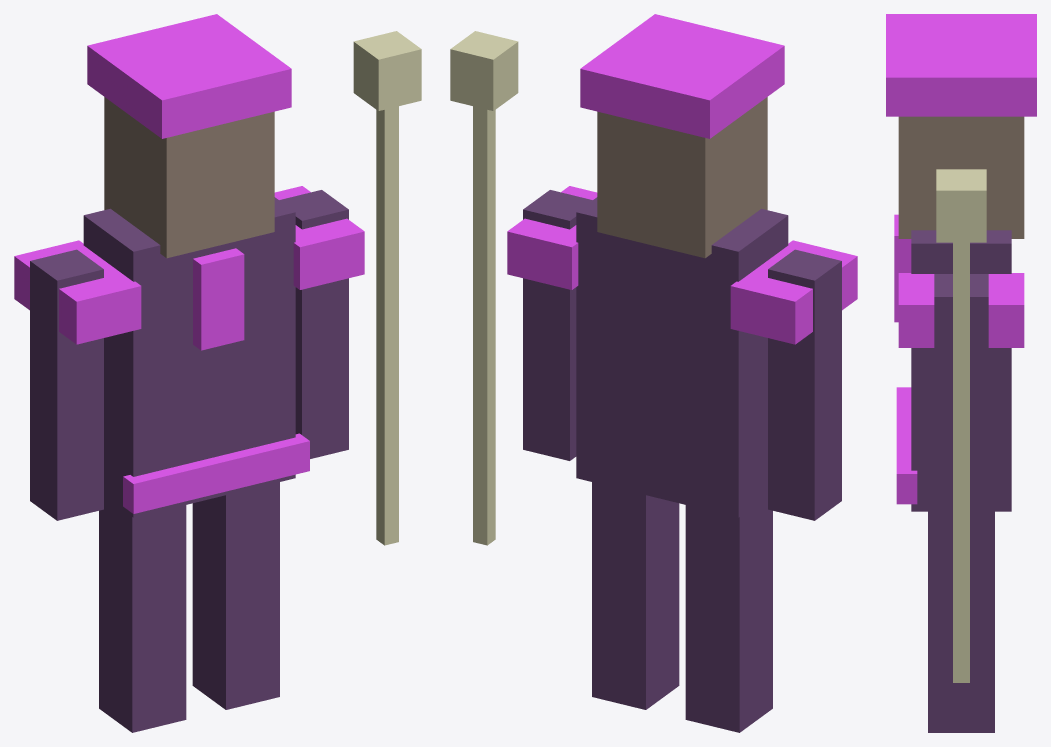
Rendered from 16_zerin_stormhush_keeper_from_tactical.glb.
The picture shows the model from 3 angles, left to right: view 1: azimuth 30°, elevation 25°; view 2: azimuth 150°, elevation 25°; view 3: azimuth 270°, elevation 25°; orthographic projection.
Visible parts, largest first — view 1: Zerin Stormhush, Keeper from Tactical; view 2: Zerin Stormhush, Keeper from Tactical; view 3: Zerin Stormhush, Keeper from Tactical.
Boxes of the visible parts, x1,y1,x2,y2 form: Zerin Stormhush, Keeper from Tactical: (14,14,421,732); Zerin Stormhush, Keeper from Tactical: (450,14,857,732); Zerin Stormhush, Keeper from Tactical: (886,14,1036,732).
Bounding box in the file's own units: 0.9431 × 1.59 × 0.3345.
